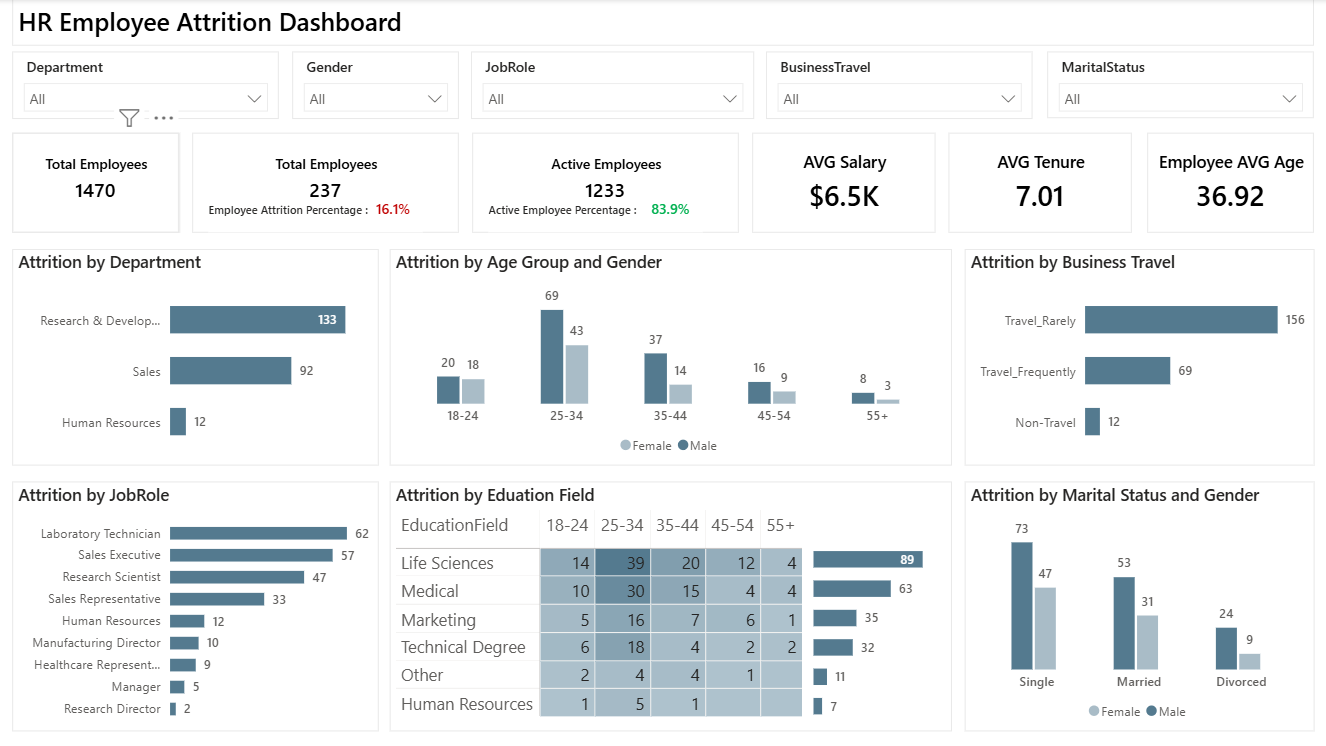

What the dashboard file says about the page in this screenshot:
{"tool":"powerbi","page":{"name":"Page 1","canvas":[1280,720],"ordinal":0},"visuals":[{"type":"textbox","title":"Title","box":[16,0,1250,45],"z":0},{"type":"card","title":"Total Employees","fields":{"Values":["_Measures.Total Attrition"]},"box":[188.8,128,256,96],"z":0,"group":"g1"},{"type":"card","title":"Active Employees","fields":{"Values":["_Measures.Active Employees"]},"box":[457.6,128,256,96],"z":0,"group":"g2"},{"type":"slicer","title":"Dpt Slicer","fields":{"Values":["EmployeeAttrition.Department"]},"box":[16,50,256,65],"z":1000},{"type":"textbox","box":[204.1,192,205.7,32],"z":1000,"group":"g1"},{"type":"textbox","box":[472.9,192,205.7,32],"z":1000,"group":"g2"},{"type":"slicer","title":"Gen Slicer","fields":{"Values":["EmployeeAttrition.Gender"]},"box":[284,50,160,65],"z":2000},{"type":"card","fields":{"Values":["_Measures.Employee Attrition Percentage"]},"box":[358.8,188,45,25],"z":2000,"group":"g1"},{"type":"card","fields":{"Values":["_Measures.Active Employee percentage"]},"box":[624.6,188,47,25],"z":2000,"group":"g2"},{"type":"slicer","title":"Job Slicer","fields":{"Values":["EmployeeAttrition.MaritalStatus"]},"box":[1010,50,256,64],"z":3000},{"type":"slicer","title":"TVL Slicer","fields":{"Values":["EmployeeAttrition.JobRole"]},"box":[456,50,272,65],"z":4000},{"type":"slicer","title":"Mar Slicer","fields":{"Values":["EmployeeAttrition.BusinessTravel"]},"box":[740,50,256,65],"z":5000},{"type":"card","title":"Total Employees","fields":{"Values":["_Measures.Total Employees"]},"box":[16,128,160,96],"z":6000},{"type":"card","title":"AVG Tenure","fields":{"Values":["_Measures.Average Tenure"]},"box":[915.2,128,176,96],"z":7000},{"type":"card","title":"Employee AVG Age","fields":{"Values":["_Measures.Average Age"]},"box":[1106,128,160,96],"z":8000},{"type":"card","title":"AVG Salary","fields":{"Values":["_Measures.Average Salary"]},"box":[726.4,128,176,96],"z":9000},{"type":"group","id":"g1","title":"KPI 1","box":[188.8,128,256,96],"z":10000},{"type":"group","id":"g2","title":"KPI 2","box":[457.6,128,256,96],"z":11000},{"type":"clusteredBarChart","title":"Attrition by Department","fields":{"Y":["_Measures.Total Attrition"],"Category":["EmployeeAttrition.Department"]},"box":[16,240,352,208],"z":12000},{"type":"clusteredBarChart","title":"Attrition by JobRole","fields":{"Y":["_Measures.Total Attrition"],"Category":["EmployeeAttrition.JobRole"]},"box":[16,464,352,240],"z":13000},{"type":"clusteredColumnChart","title":"Attrition by Age Group and Gender","fields":{"Y":["_Measures.Total Attrition"],"Category":["EmployeeAttrition.Age Group"],"Series":["EmployeeAttrition.Gender"]},"box":[378,240,540,208],"z":14000},{"type":"clusteredBarChart","title":"Attrition by Business Travel","fields":{"Y":["_Measures.Total Attrition"],"Category":["EmployeeAttrition.BusinessTravel"]},"box":[930,240,336,208],"z":15000},{"type":"pivotTable","title":"Attrition by Eduation Field","fields":{"Rows":["EmployeeAttrition.EducationField"],"Columns":["EmployeeAttrition.Age Group"],"Values":["_Measures.Total Attrition"]},"box":[378,464,540,240],"z":17000},{"type":"clusteredBarChart","title":"Attrition by Department","fields":{"Y":["_Measures.Total Attrition"],"Category":["EmployeeAttrition.EducationField"]},"box":[780,518,135,176],"z":17500},{"type":"clusteredColumnChart","title":"Attrition by Marital Status and Gender","fields":{"Y":["_Measures.Total Attrition"],"Series":["EmployeeAttrition.Gender"],"Category":["EmployeeAttrition.MaritalStatus"]},"box":[930,464,336,240],"z":18000}]}

Visuals, with their boxes in screenshot pixels (x1, y1, x2, y2), scaled from the page's 1280x720 canvas onto the 1326x746 screenshot:
"Title" textbox: x1=17, y1=0, x2=1311, y2=47
"Total Employees" card: x1=196, y1=133, x2=461, y2=232
"Active Employees" card: x1=474, y1=133, x2=739, y2=232
"Dpt Slicer" slicer: x1=17, y1=52, x2=282, y2=119
textbox: x1=211, y1=199, x2=425, y2=232
textbox: x1=490, y1=199, x2=703, y2=232
"Gen Slicer" slicer: x1=294, y1=52, x2=460, y2=119
card - _Measures.Employee Attrition Percentage: x1=372, y1=195, x2=418, y2=221
card - _Measures.Active Employee percentage: x1=647, y1=195, x2=696, y2=221
"Job Slicer" slicer: x1=1046, y1=52, x2=1311, y2=118
"TVL Slicer" slicer: x1=472, y1=52, x2=754, y2=119
"Mar Slicer" slicer: x1=767, y1=52, x2=1032, y2=119
"Total Employees" card: x1=17, y1=133, x2=182, y2=232
"AVG Tenure" card: x1=948, y1=133, x2=1130, y2=232
"Employee AVG Age" card: x1=1146, y1=133, x2=1311, y2=232
"AVG Salary" card: x1=753, y1=133, x2=935, y2=232
"KPI 1" group: x1=196, y1=133, x2=461, y2=232
"KPI 2" group: x1=474, y1=133, x2=739, y2=232
"Attrition by Department" clusteredBarChart: x1=17, y1=249, x2=381, y2=464
"Attrition by JobRole" clusteredBarChart: x1=17, y1=481, x2=381, y2=729
"Attrition by Age Group and Gender" clusteredColumnChart: x1=392, y1=249, x2=951, y2=464
"Attrition by Business Travel" clusteredBarChart: x1=963, y1=249, x2=1311, y2=464
"Attrition by Eduation Field" pivotTable: x1=392, y1=481, x2=951, y2=729
"Attrition by Department" clusteredBarChart: x1=808, y1=537, x2=948, y2=719
"Attrition by Marital Status and Gender" clusteredColumnChart: x1=963, y1=481, x2=1311, y2=729
